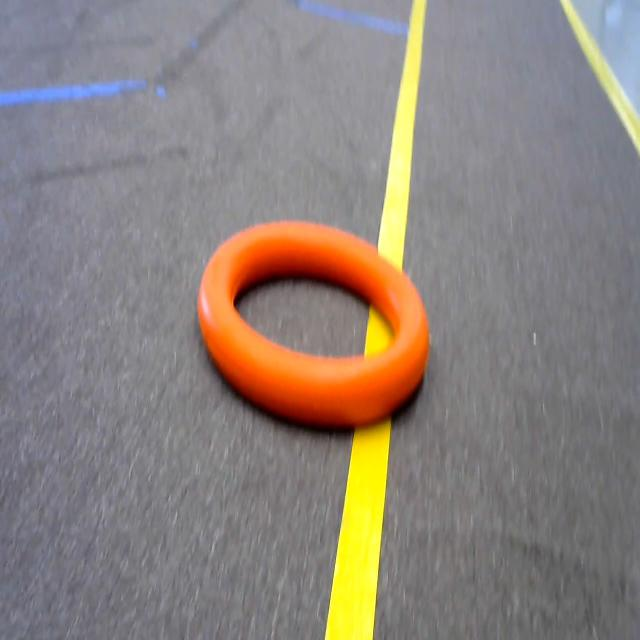note: (178, 200, 458, 458)
